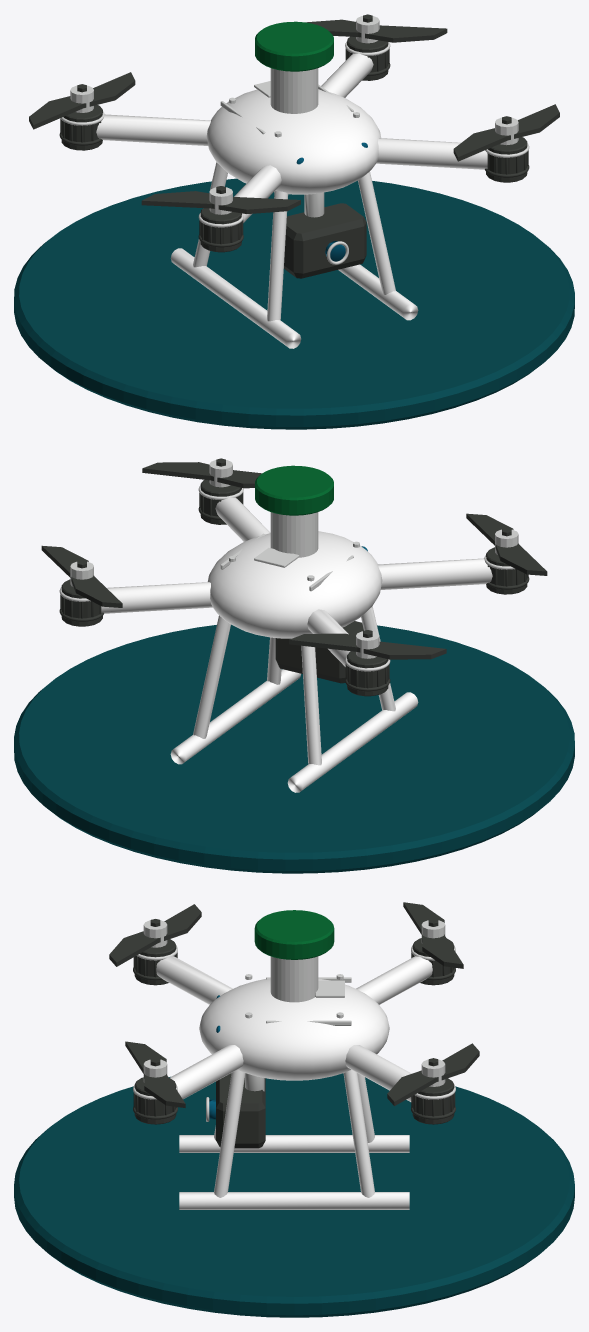
Rendered from dji-phantom-4-rtk.glb.
3 views of the same model, one above another, from view 1: azimuth 30°, elevation 25°; view 2: azimuth 150°, elevation 25°; view 3: azimuth 270°, elevation 25° (orthographic).
Visible parts, largest first — view 1: pedestal, body; view 2: pedestal, body; view 3: pedestal, body.
Boxes of the visible parts, x1,y1,x2,y2 form: pedestal: [14, 178, 574, 429]; body: [29, 14, 559, 348]; pedestal: [14, 624, 574, 873]; body: [41, 458, 547, 792]; pedestal: [14, 1073, 574, 1317]; body: [109, 902, 479, 1209].
Size of the model in its own units: 4.4 by 2.38 by 4.4.
